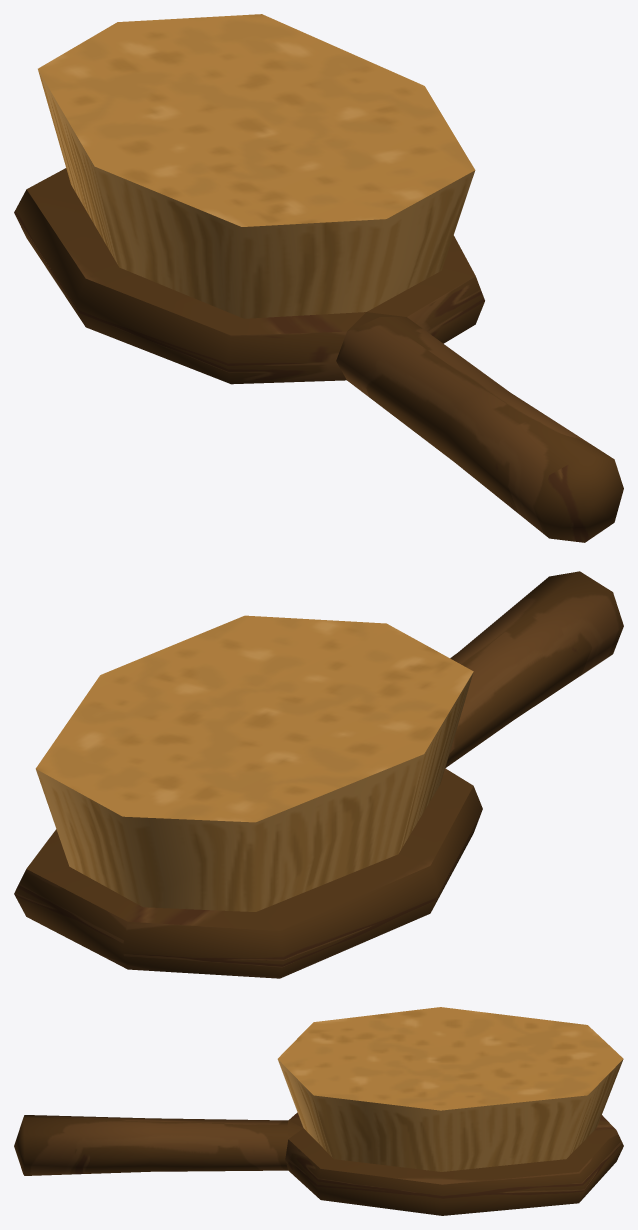
The model's file is SM_PROP_brush_interior.fbx.
The picture shows the model from 3 angles, top to bottom: view 1: azimuth 30°, elevation 25°; view 2: azimuth 150°, elevation 25°; view 3: azimuth 270°, elevation 25°; orthographic projection. The views are drawn at different scales.
Visible parts, largest first — view 1: SM_PROP_brush_interior; view 2: SM_PROP_brush_interior; view 3: SM_PROP_brush_interior.
Boxes of the visible parts, x1,y1,x2,y2 form: SM_PROP_brush_interior: [14, 14, 623, 542]; SM_PROP_brush_interior: [14, 571, 623, 978]; SM_PROP_brush_interior: [14, 1007, 623, 1215].
Size of the model in its own units: 13.38 by 6.29 by 30.19.
